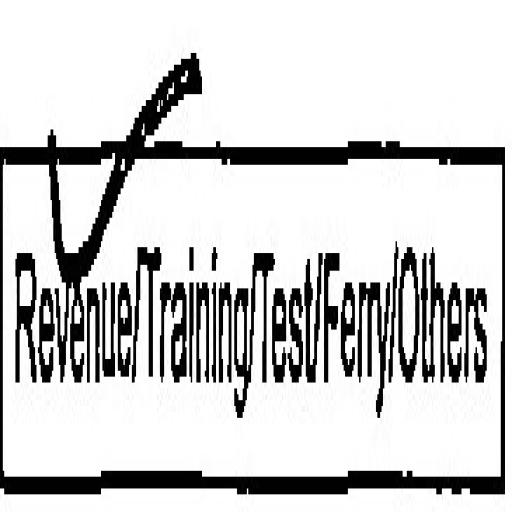check: (5, 55, 137, 512)
